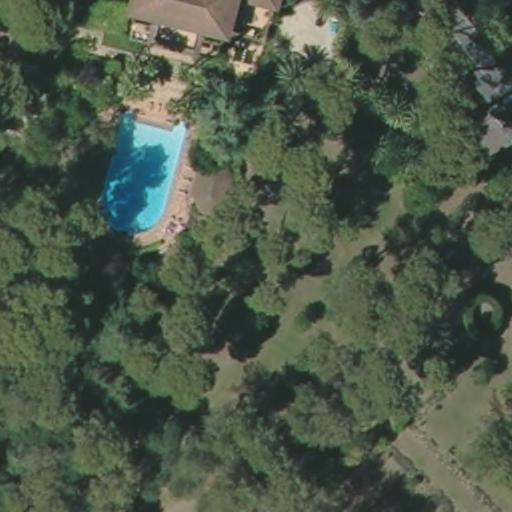pool: (103, 111, 190, 239)
